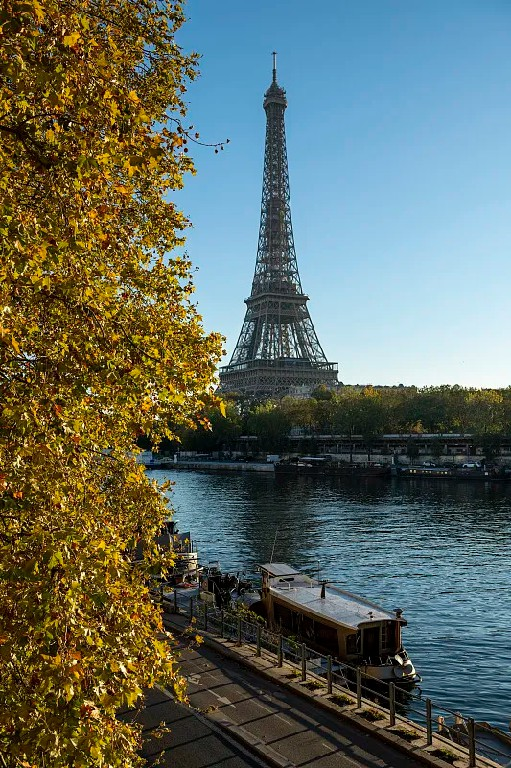Eiffel: (213, 52, 341, 415)
